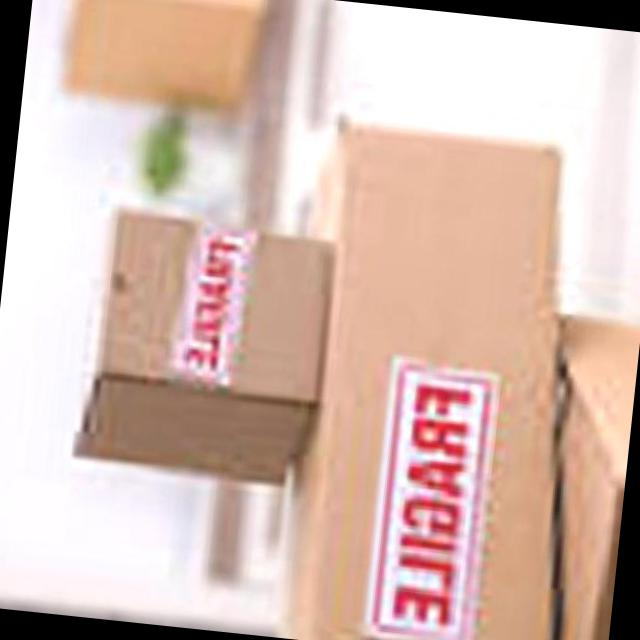box: (205, 135, 591, 620)
